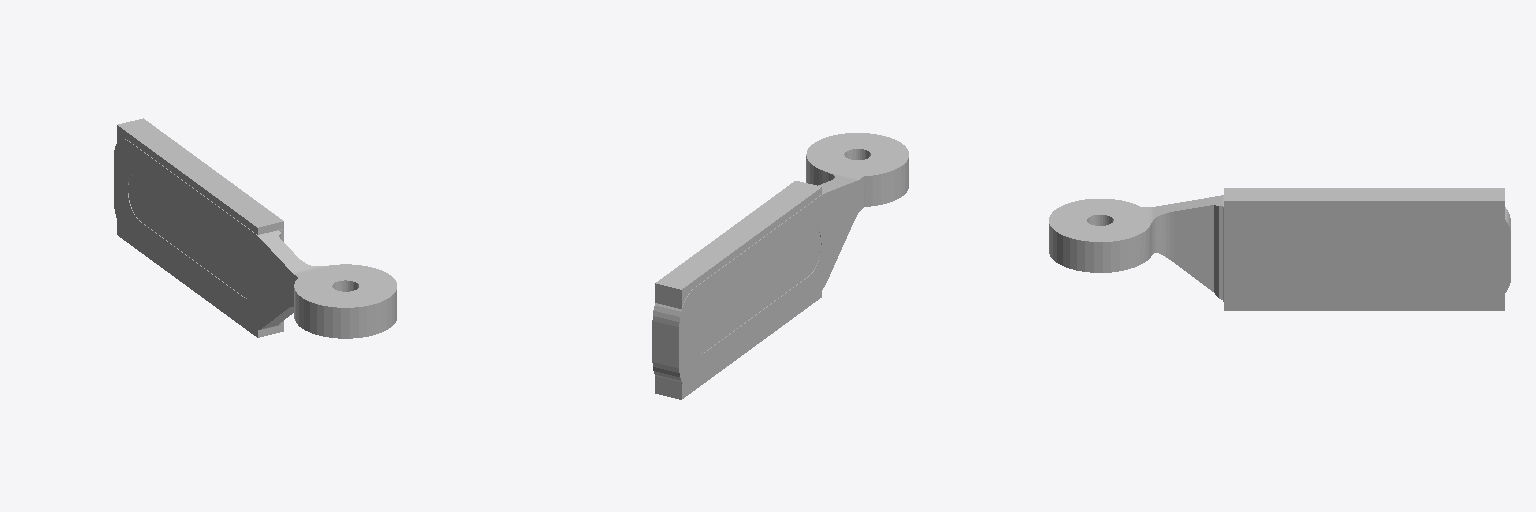
Rendered from left_fill.obj.
3 renders of one model, left to right at view 1: azimuth 30°, elevation 25°; view 2: azimuth 150°, elevation 25°; view 3: azimuth 270°, elevation 25°, orthographic.
Bounding box in the file's own units: 0.005 × 0.0059 × 0.0224.